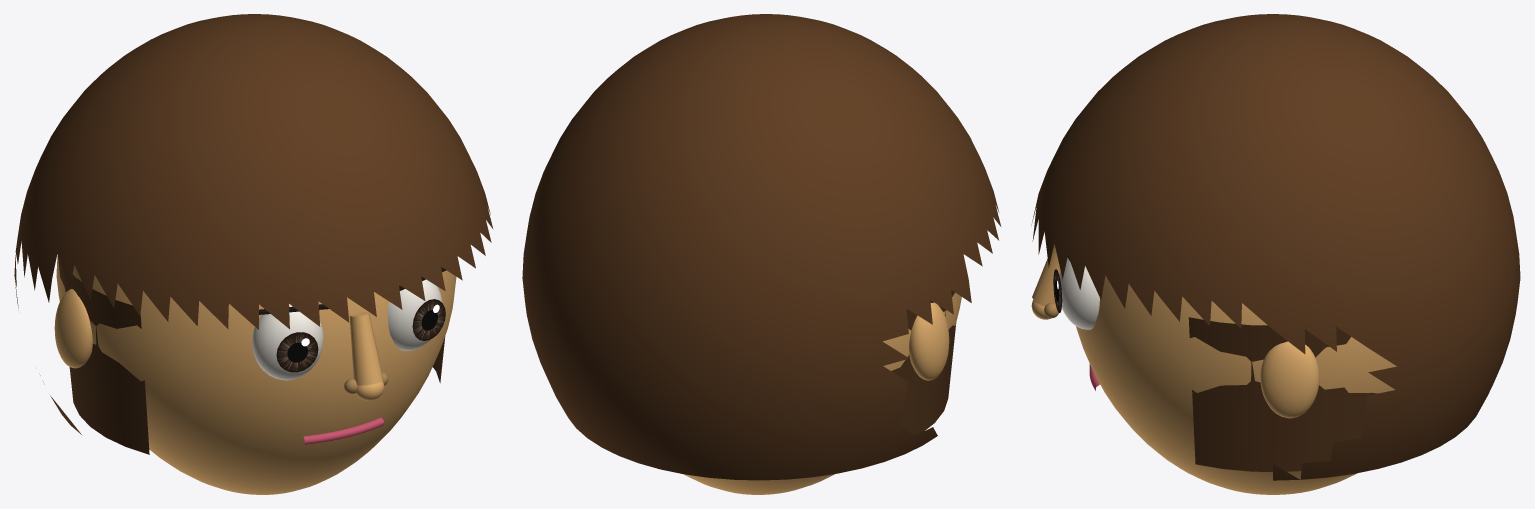
Rendered from femme-11-mi-longs.glb.
3 renders of one model, left to right at view 1: azimuth 30°, elevation 25°; view 2: azimuth 150°, elevation 25°; view 3: azimuth 270°, elevation 25°, orthographic.
Size of the model in its own units: 0.3403 by 0.351 by 0.3475.
12 materials, 1 textured.
